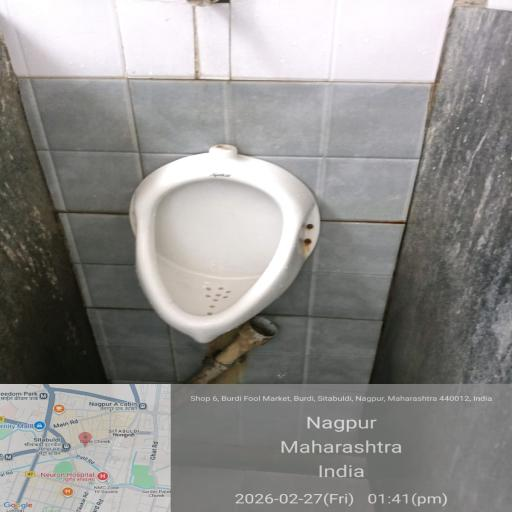clean_floor: (52, 28, 452, 136)
clean_urinal: (124, 159, 315, 360)
